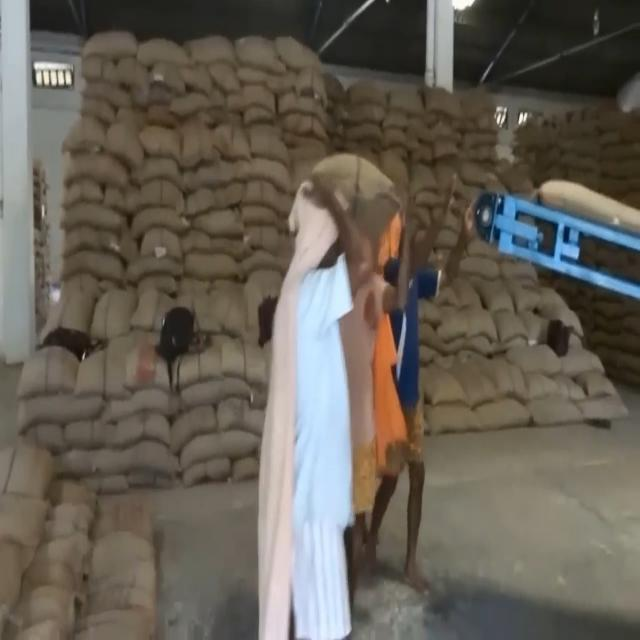gunny_bag: (305, 148, 405, 244), (536, 181, 640, 235), (18, 393, 104, 439), (181, 425, 261, 468), (39, 290, 98, 347), (102, 386, 180, 426), (14, 344, 77, 392), (180, 374, 254, 413), (89, 288, 138, 344), (60, 152, 131, 190), (174, 114, 222, 168), (452, 362, 507, 406), (230, 154, 289, 194), (62, 248, 122, 286), (130, 286, 177, 334), (134, 154, 187, 194), (65, 222, 122, 259), (186, 32, 240, 71), (59, 204, 128, 234), (136, 33, 190, 71), (105, 119, 147, 167), (182, 254, 249, 284), (476, 395, 536, 428), (247, 119, 290, 165), (280, 34, 326, 76), (238, 34, 286, 74), (68, 344, 108, 392), (419, 364, 464, 406), (137, 124, 186, 162), (530, 395, 586, 428), (129, 209, 188, 240), (64, 115, 108, 156), (424, 404, 484, 434), (126, 255, 186, 284), (83, 30, 137, 62), (504, 274, 547, 314), (190, 208, 243, 240), (241, 180, 288, 216), (279, 92, 328, 126), (508, 344, 560, 376), (192, 208, 246, 238), (137, 224, 184, 258), (224, 82, 276, 112), (340, 80, 390, 111), (184, 155, 230, 188), (82, 82, 134, 110), (424, 88, 466, 122), (170, 88, 213, 120), (476, 279, 512, 317), (493, 308, 531, 342), (61, 176, 103, 206), (464, 308, 498, 344), (238, 202, 282, 228), (575, 400, 630, 420), (459, 92, 496, 121), (386, 86, 424, 114), (408, 160, 440, 192), (558, 148, 600, 170), (463, 255, 501, 279), (560, 135, 602, 155), (463, 130, 500, 152), (346, 122, 382, 142), (383, 127, 408, 148)
